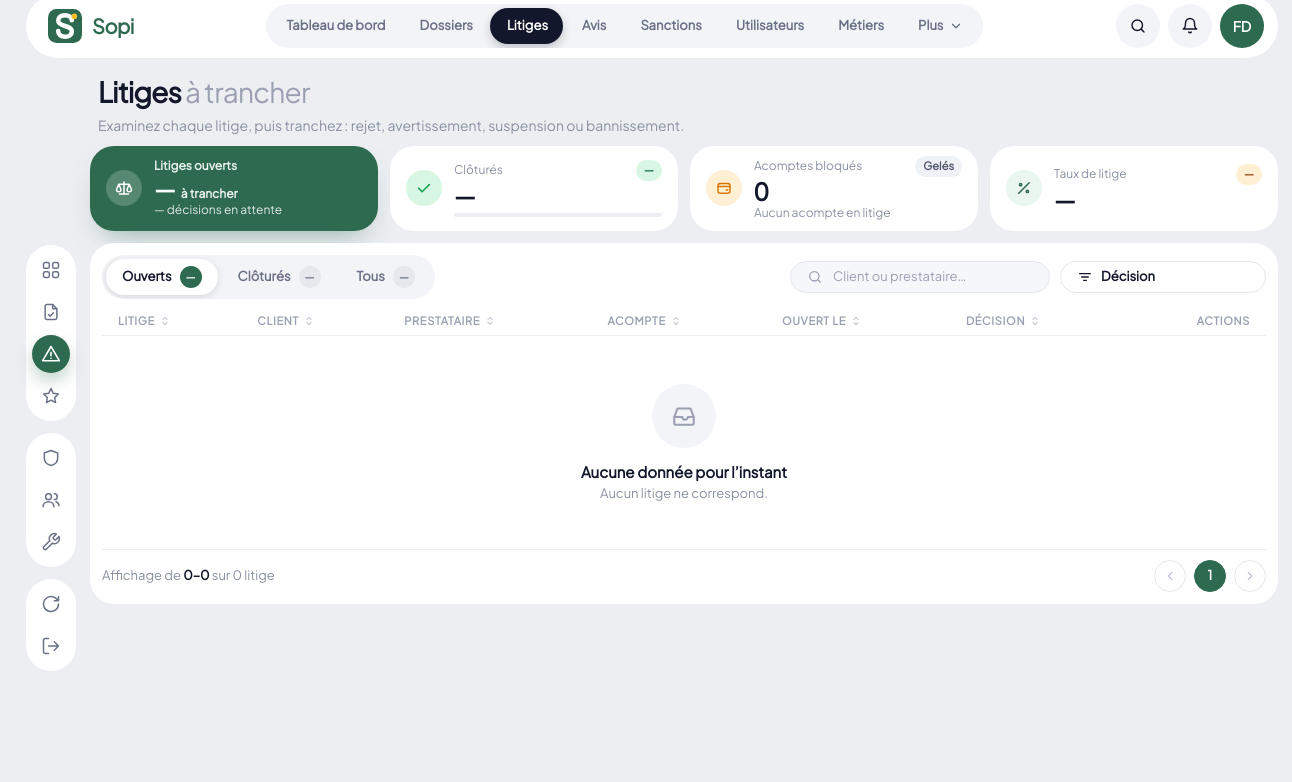
Test: états de la liste : Litiges › vide avec recherche : « Aucun résultat pour ces filtres », et Réinitialiser vide aussi le champ de recherche
Expected: the text "Aucune donnée pour l’instant" is shown, [581, 462, 787, 481]
Step 1. Type "zzz" into the search field named "Rechercher un client ou un prestataire" → (933, 277), box [833, 267, 1033, 286]
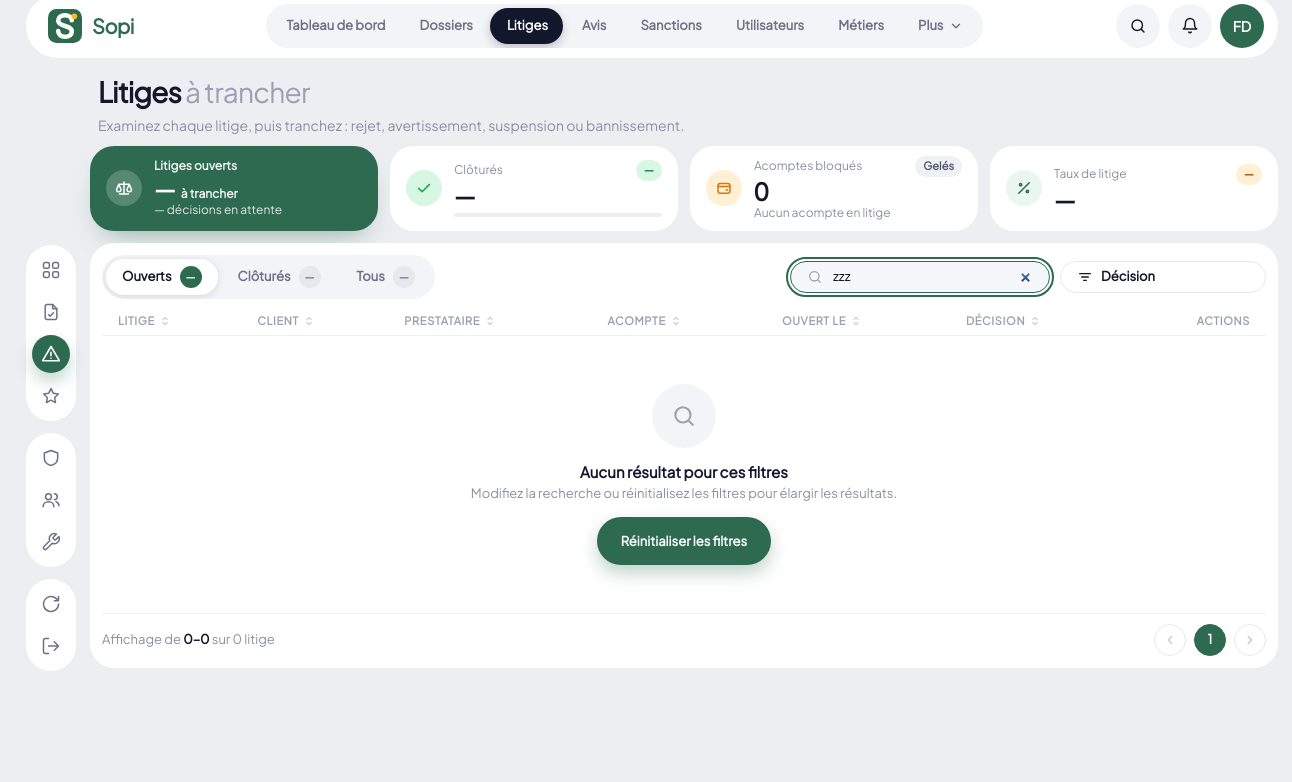
Expected: the text "Aucune donnée pour l’instant" is gone
Step 2. Click the button "Réinitialiser les filtres" → (684, 541), box [597, 517, 771, 565]
(page scrolled)
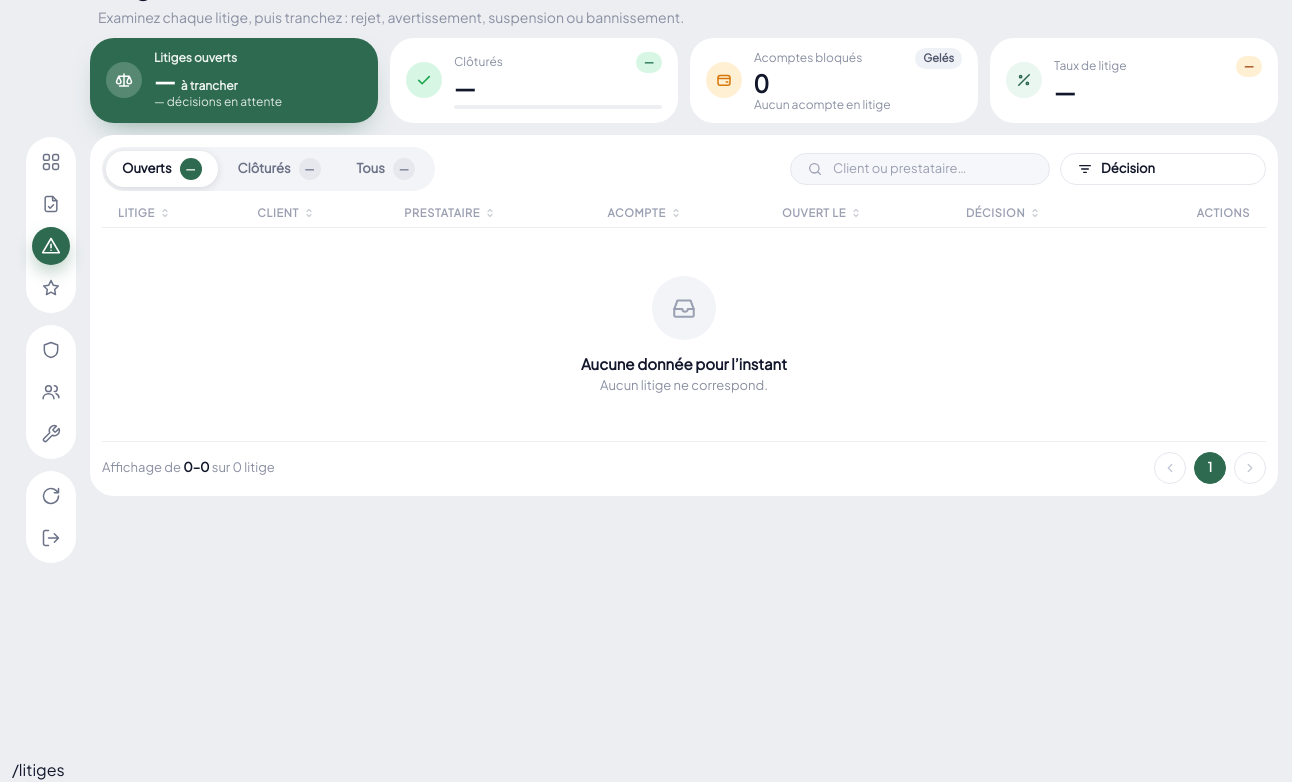
Expected: the text "Aucune donnée pour l’instant" is shown, [581, 354, 787, 373]
Expected: the search field named "Rechercher un client ou un prestataire" is empty, [833, 159, 1033, 178]
